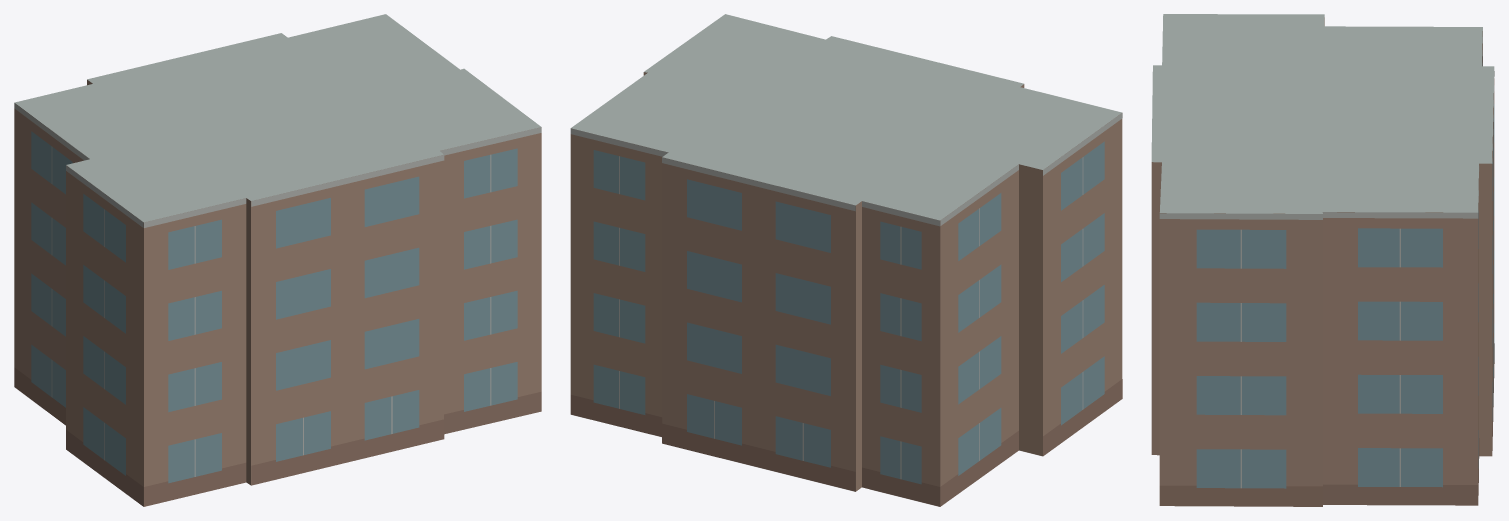
File: survey-upis-32839690.glb
The picture shows the model from 3 angles, left to right: view 1: azimuth 30°, elevation 25°; view 2: azimuth 150°, elevation 25°; view 3: azimuth 270°, elevation 25°; orthographic projection. The views are drawn at different scales.
Visible parts, largest first — view 1: survey-upis-32839690.tmp; view 2: survey-upis-32839690.tmp; view 3: survey-upis-32839690.tmp.
Part boxes in pixels (x1=…): survey-upis-32839690.tmp: x1=14, y1=14, x2=541, y2=506; survey-upis-32839690.tmp: x1=570, y1=14, x2=1122, y2=506; survey-upis-32839690.tmp: x1=1151, y1=14, x2=1494, y2=506.
Bounding box in the file's own units: 17.58 × 12 × 12.74.
